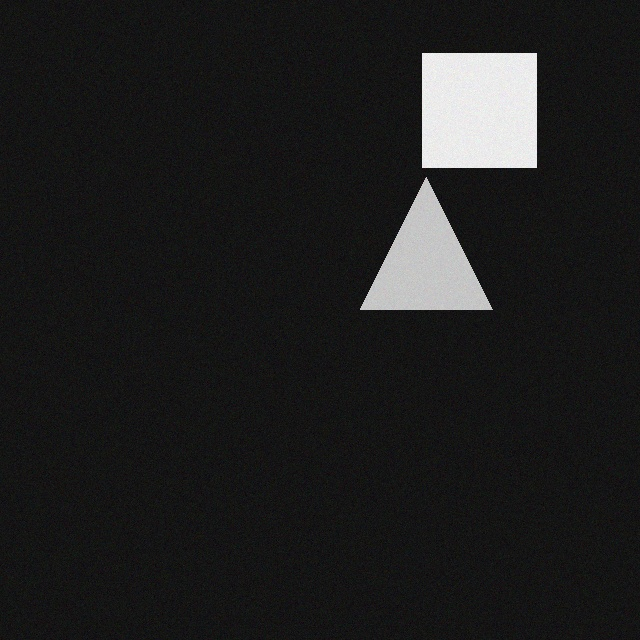square: (414, 42, 528, 156)
triangle: (352, 166, 484, 298)
